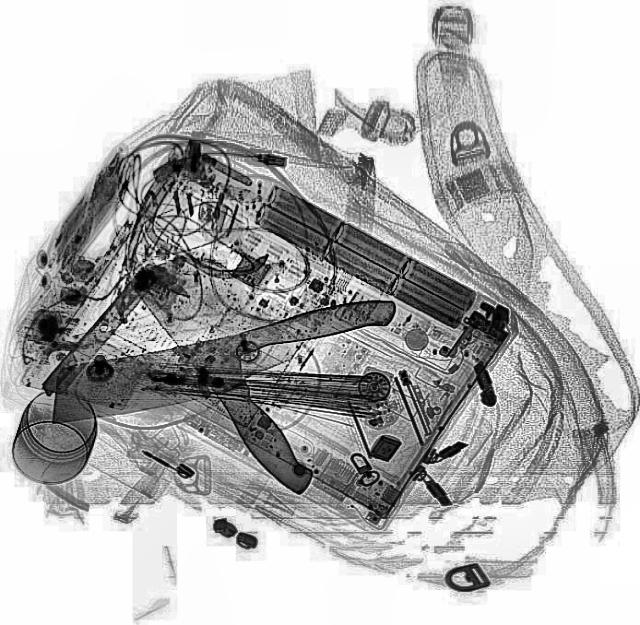Knife: (130, 237, 362, 502), (38, 296, 406, 422)
